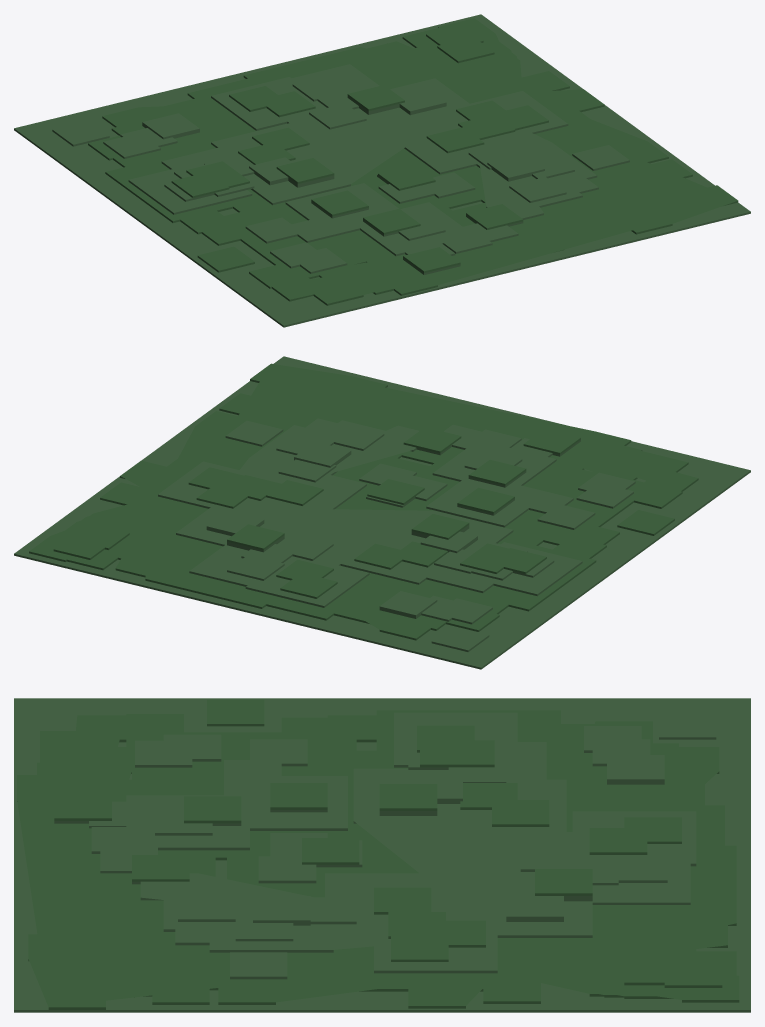
The model's file is Meadow.fbx.
3 renders of one model, top to bottom at view 1: azimuth 30°, elevation 25°; view 2: azimuth 150°, elevation 25°; view 3: azimuth 270°, elevation 25°, orthographic. The views are drawn at different scales.
Visible parts, largest first — view 1: Meadow; view 2: Meadow; view 3: Meadow.
Part boxes in pixels (x1,y1,x2,y2): Meadow: (14, 14, 750, 327); Meadow: (14, 356, 750, 669); Meadow: (14, 698, 750, 1012).
Size of the model in its own units: 10240 by 10240 by 240.
